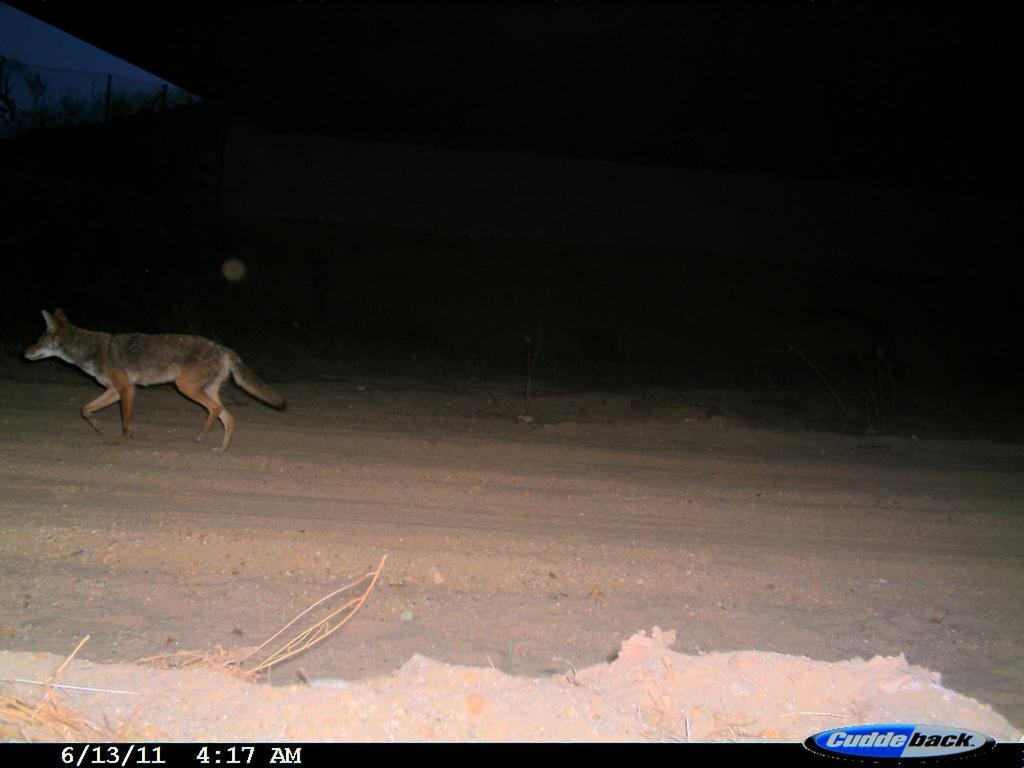coyote: (27, 304, 296, 461)
